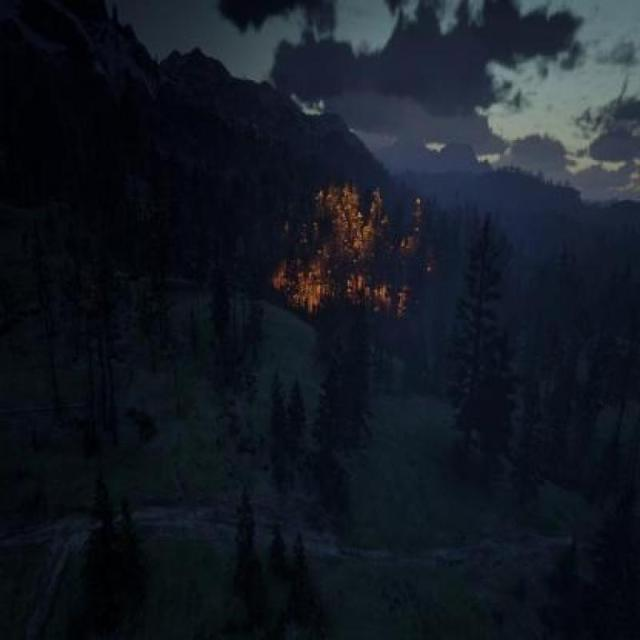Fire: (275, 182, 433, 328)
